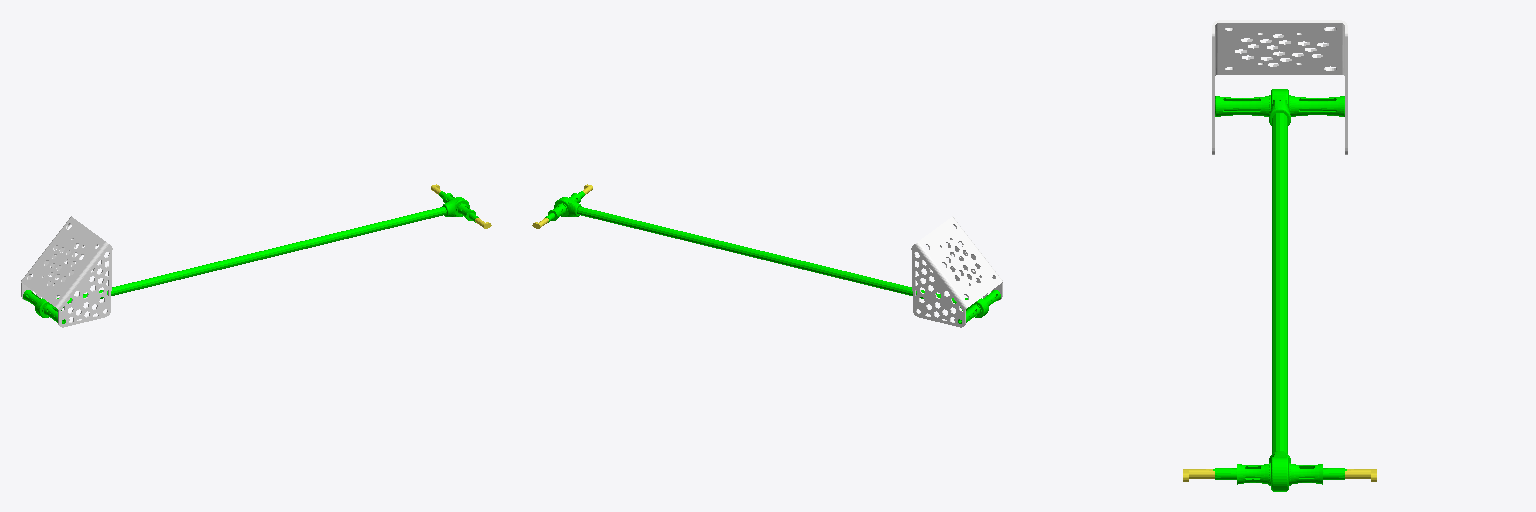
URDF robot description (delta_robot):
<?xml version="1.0"?>
<robot name="delta_robot">

    <!-- RAILS -->
    <link name="rails_link">

        <visual>
            <origin xyz="0 0 0"/>
            <geometry>
                <mesh filename="../meshes/rails.stl"/>
            </geometry>
            <material name="gray">
              <color rgba="0.8 0.8 0.8 1"/>
            </material>
        </visual>
    
    </link>
    <!-- RAILS END-->

    <!-- CARRIAGE 2 -->
    <link name="carriage_2_link">

        <visual>
            <origin xyz="0. 0. 0."/>
            <geometry>
                <mesh filename="../meshes/carriage_2.stl"/>
            </geometry>
            <material name="white">
              <color rgba="1. 1. 1. 1."/>
            </material>
        </visual>

    </link>

    <joint name="carriage_2_joint" type="prismatic">
        <origin xyz="0. 0. 0." rpy="0 0 0"/>
        <parent link="rails_link"/>
        <child link="carriage_2_link"/>
        <axis xyz="-1 0 -1"/>
        <limit lower="60" upper="350" velocity="0" effort="0"/> 
    </joint>
    <!-- CARRIAGE 2 END-->

    <!-- ROD 2 -->
    <link name="rod_2_link">

        <visual>
            <origin xyz="0 0 0" rpy="0 0 0"/>
            <geometry>
                <mesh filename="../meshes/link_2.stl"/>
            </geometry>
            <material name="green">
              <color rgba="0 1 0 1"/>
            </material>
        </visual>

    </link>

    <joint name="rod_2_joint" type="revolute">
        <origin xyz="0 0 0" rpy="0 0 0"/>
        <parent link="carriage_2_link"/>
        <child link="rod_2_link"/>
        <axis xyz="0 1 0"/>
        <limit lower="0" upper="6.28" velocity="0" effort="0"/> 
    </joint>

    <link name="rod_2_end-effector_link">
        <visual>
            <origin xyz="0 0 0" rpy="0 0 0"/>
            <geometry>
                <mesh filename="../meshes/end-effector_joint.stl"/>
            </geometry>
        </visual>
    
    </link>

    <joint name="rod_2_end-effector_joint" type="fixed">
        <origin xyz="450 0 0"/>
        <parent link="rod_2_link"/>
        <child link="rod_2_end-effector_link"/>
    </joint>
    <!-- ROD 2 END-->

</robot>

--- Facts derived from the render (not from the file) ---
The picture shows the robot from 3 angles, left to right: view 1: azimuth 30°, elevation 25°; view 2: azimuth 150°, elevation 25°; view 3: azimuth 270°, elevation 25°; orthographic projection.
Robot: delta_robot — 4 links, 3 joints (1 revolute, 1 prismatic, 1 fixed); root link rails_link; default pose: all joints at 0 but 1 set to mid-range because 0 is outside their limits (carriage_2_joint = 205).
Links seen in each view (by area): view 1: carriage_2_link, rod_2_link; view 2: carriage_2_link, rod_2_link; view 3: rod_2_link, carriage_2_link, rod_2_end-effector_link.
Link boxes in pixels (bbox=[...]): carriage_2_link: bbox=[21, 216, 112, 327]; rod_2_link: bbox=[23, 191, 478, 323]; carriage_2_link: bbox=[911, 216, 1002, 327]; rod_2_link: bbox=[545, 191, 1000, 323]; rod_2_link: bbox=[1213, 89, 1346, 491]; carriage_2_link: bbox=[1212, 20, 1347, 154]; rod_2_end-effector_link: bbox=[1183, 469, 1376, 481].
Bounding box of the posed robot: 468 × 100 × 80.07 m (x, y, z).
3 mesh visuals loaded from 4 distinct referenced files (3 binary STL); not drawn: 1 (reference not matched to a file when rendering).
